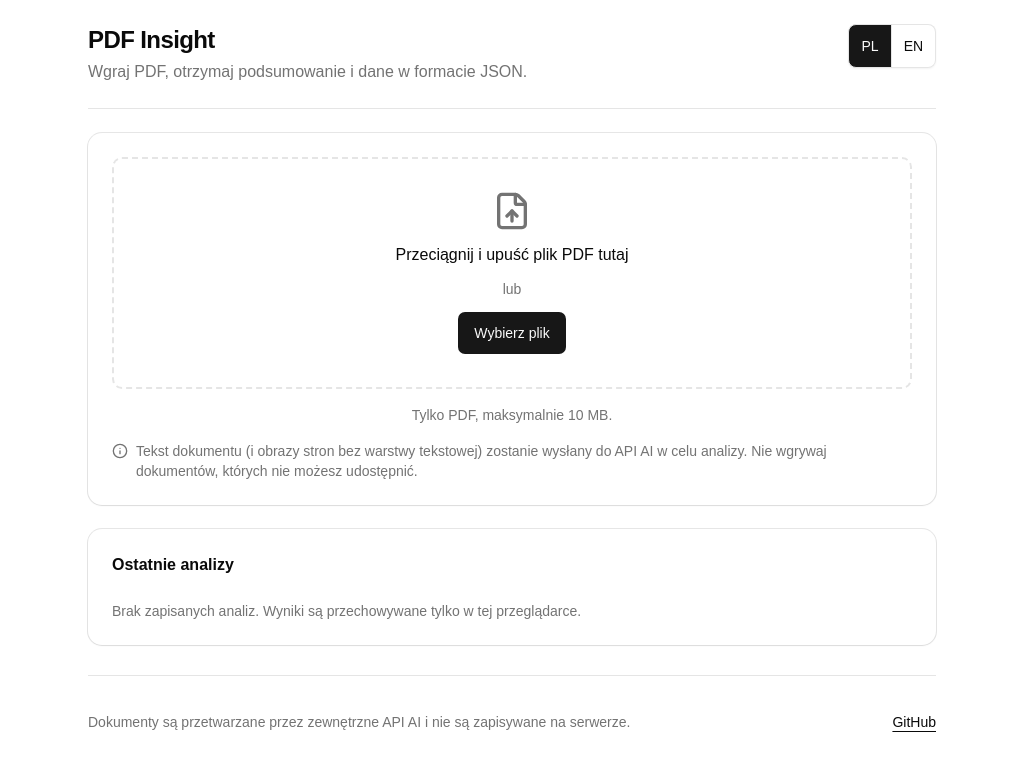
Test: App › switches the interface to English
What coordinates should you click on to do the following:
click the button "EN"
I would click on:
 (914, 46)
Its box is [892, 24, 936, 68].
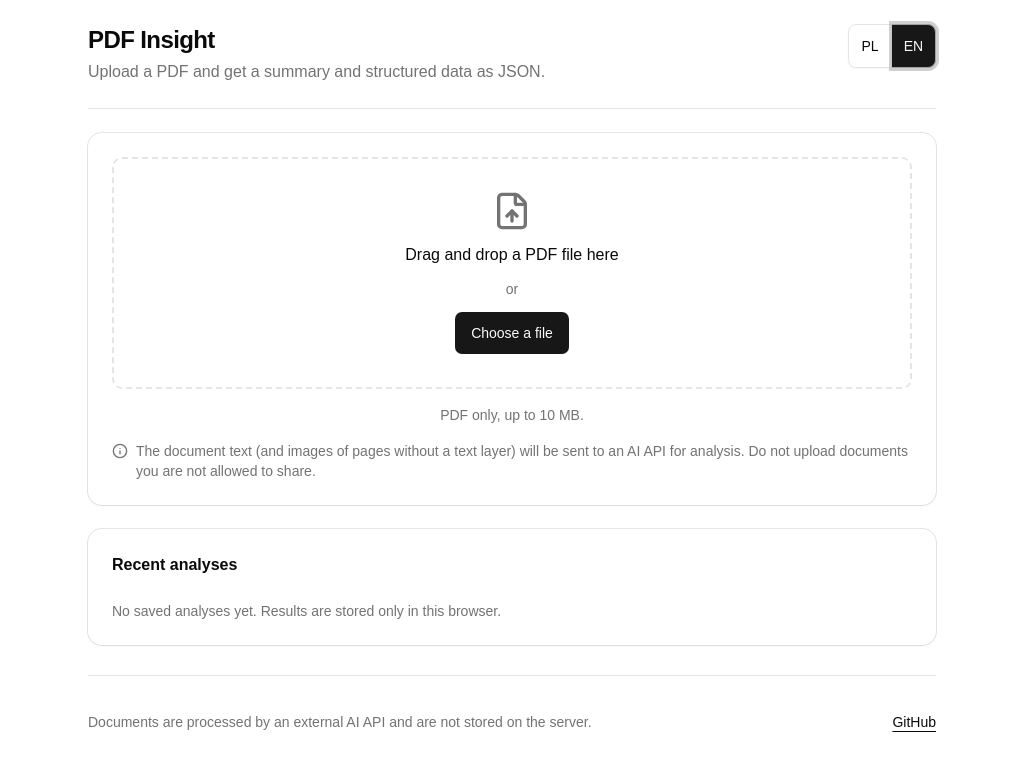
expect the heading "PDF Insight" is shown: met, box [88, 26, 215, 53]
expect the button "Drag and drop a PDF file here or Choose a file" is shown: met, box [112, 157, 912, 389]
